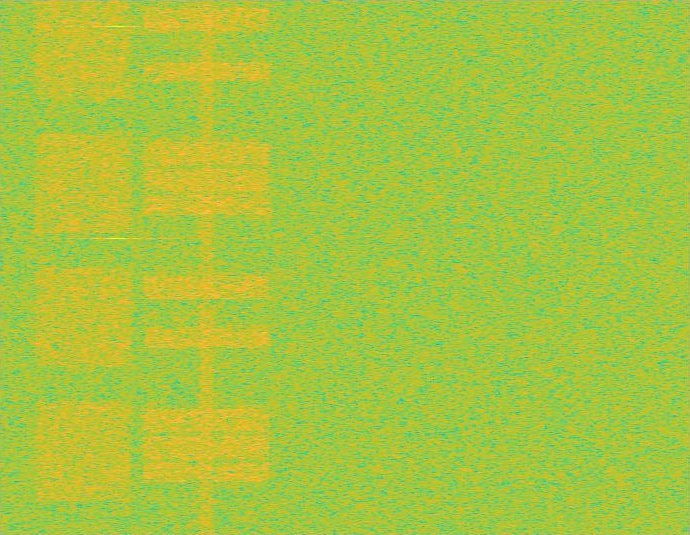5G: (32, 0, 135, 534)
DSSS: (197, 0, 216, 534)
LTE: (138, 0, 276, 534)
Radar: (110, 0, 124, 534)
